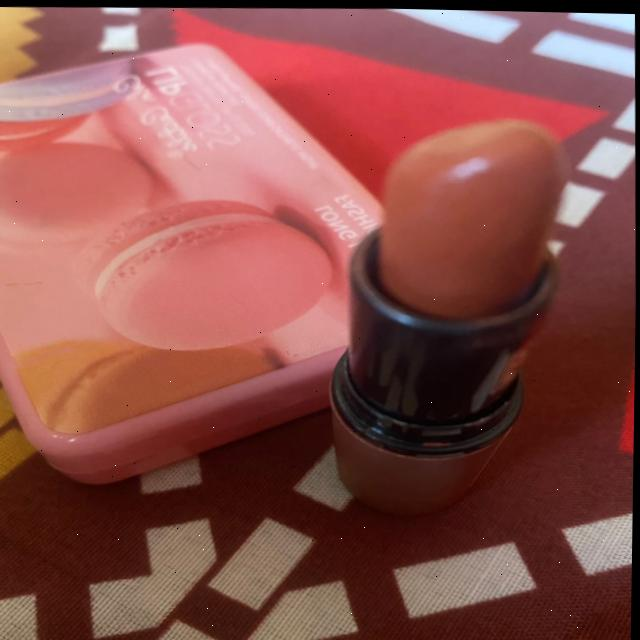lip stick: (318, 82, 585, 529)
